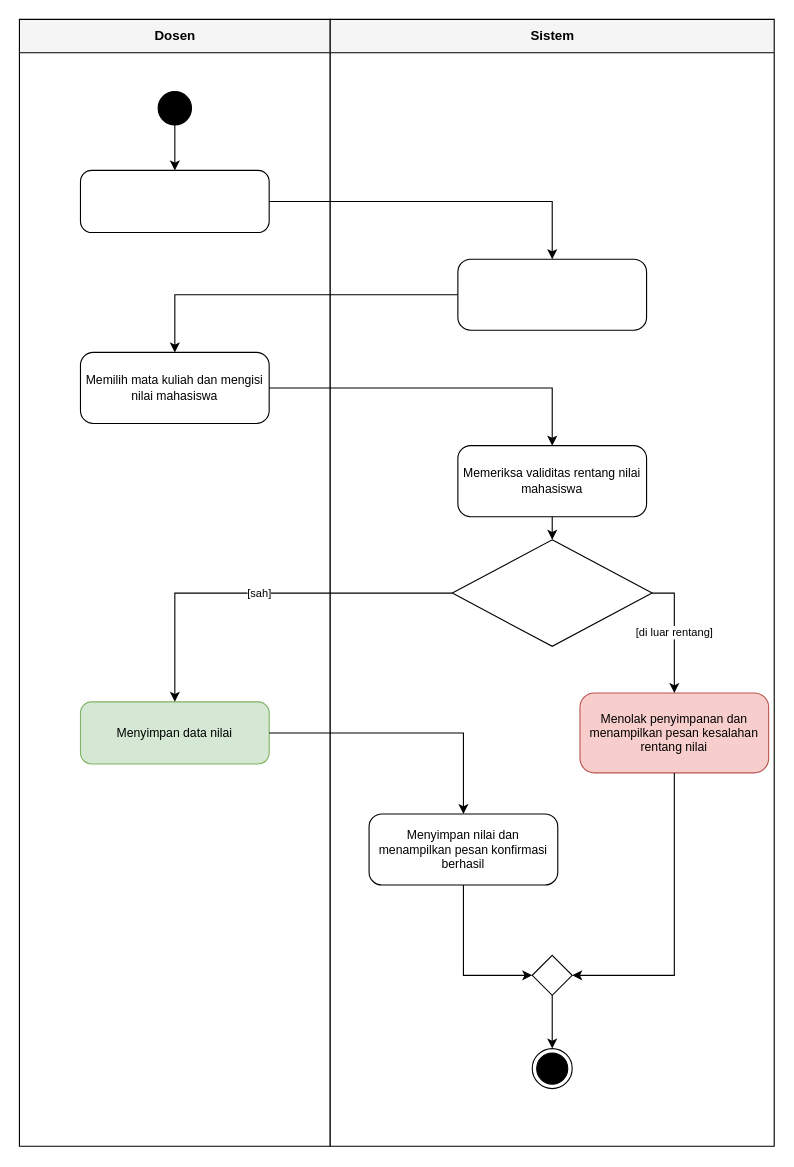
Some shapes in this 794 by 1167 pixel diagram are drawn without their labels. Each missing label, with the centre of its shape:
Membuka fungsi Input Nilai Mata Kuliah: point 174,201
Menampilkan daftar mata kuliah yang diampu oleh dosen tersebut: point 552,294
Nilai dalam rentang yang sah?: point 551,592
